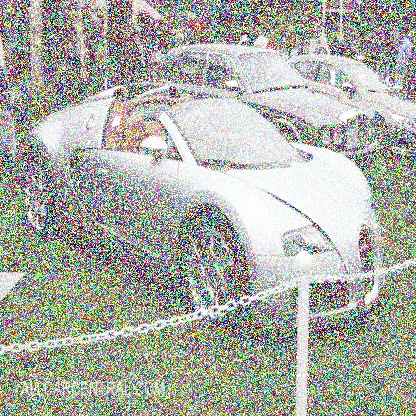Vehicle: (20, 86, 386, 328)
